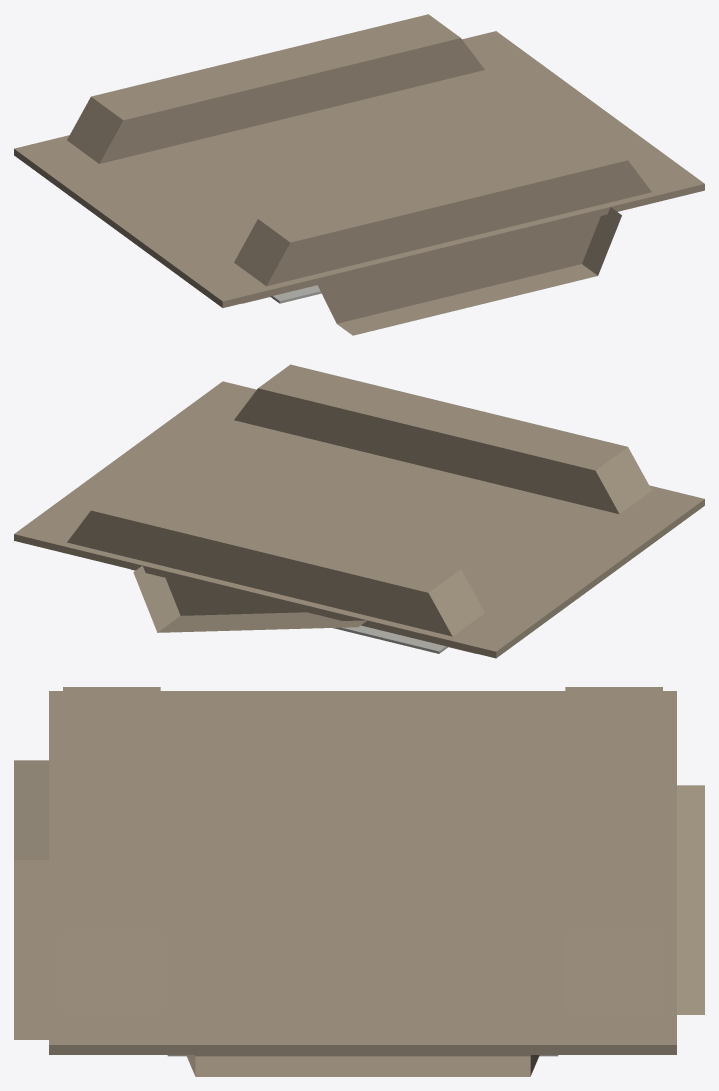
The model's file is armoured-column-and-field-camp-vehicle-scrape-9aeeec74__23718.glb.
3 views of the same model, one above another, from view 1: azimuth 30°, elevation 25°; view 2: azimuth 150°, elevation 25°; view 3: azimuth 270°, elevation 25° (orthographic). The views are drawn at different scales.
Parts seen in each view (by area): view 1: vehicle-scrape; view 2: vehicle-scrape; view 3: vehicle-scrape.
Part boxes in pixels (x1,y1,x2,y2): vehicle-scrape: (14, 14, 704, 335); vehicle-scrape: (14, 364, 704, 658); vehicle-scrape: (14, 687, 704, 1076).
Bounding box in the file's own units: 12 × 2.2 × 9.9.
